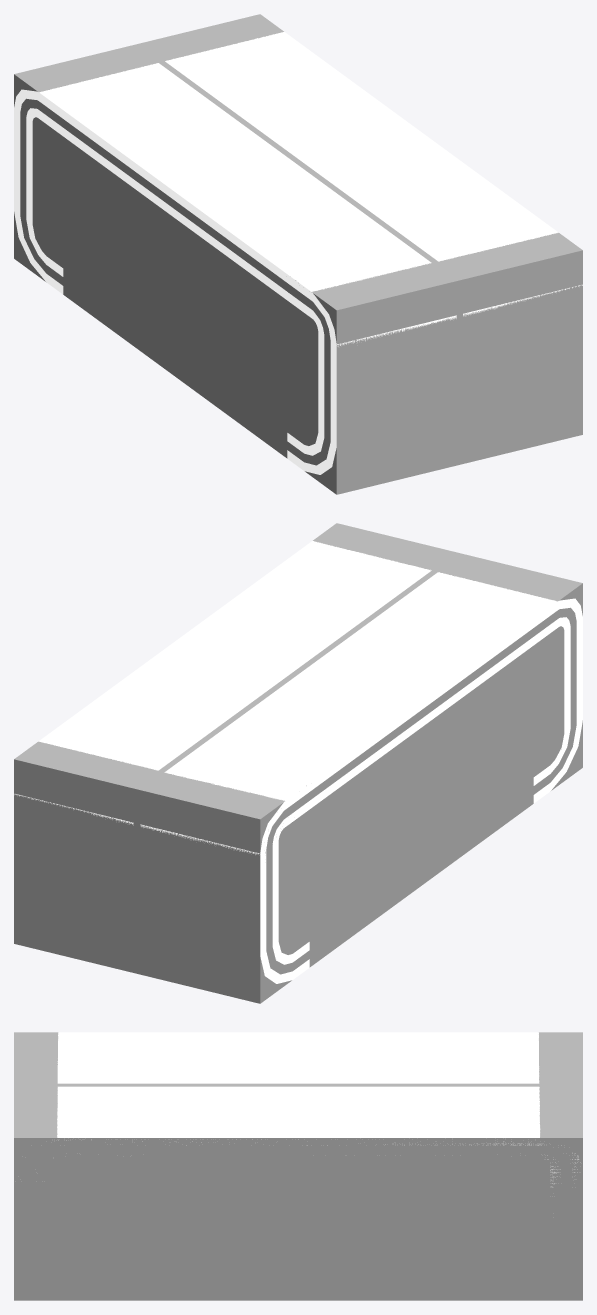
Rendered from SM_Table_03.fbx.
3 views of the same model, one above another, from view 1: azimuth 30°, elevation 25°; view 2: azimuth 150°, elevation 25°; view 3: azimuth 270°, elevation 25° (orthographic). The views are drawn at different scales.
Visible parts, largest first — view 1: SM_Table_03_ConvexHulls, SM_Table_03; view 2: SM_Table_03_ConvexHulls, SM_Table_03; view 3: SM_Table_03_ConvexHulls, SM_Table_03.
Part boxes in pixels (box(x1,y1,x2,y2)): SM_Table_03_ConvexHulls: box(14, 14, 582, 494); SM_Table_03: box(14, 32, 582, 474); SM_Table_03_ConvexHulls: box(14, 523, 582, 1003); SM_Table_03: box(14, 541, 582, 983); SM_Table_03_ConvexHulls: box(14, 1032, 582, 1300); SM_Table_03: box(57, 1032, 580, 1187).
Bounding box in the file's own units: 118 × 268 × 84.59.
Materials: 2 (1 with a texture image).
